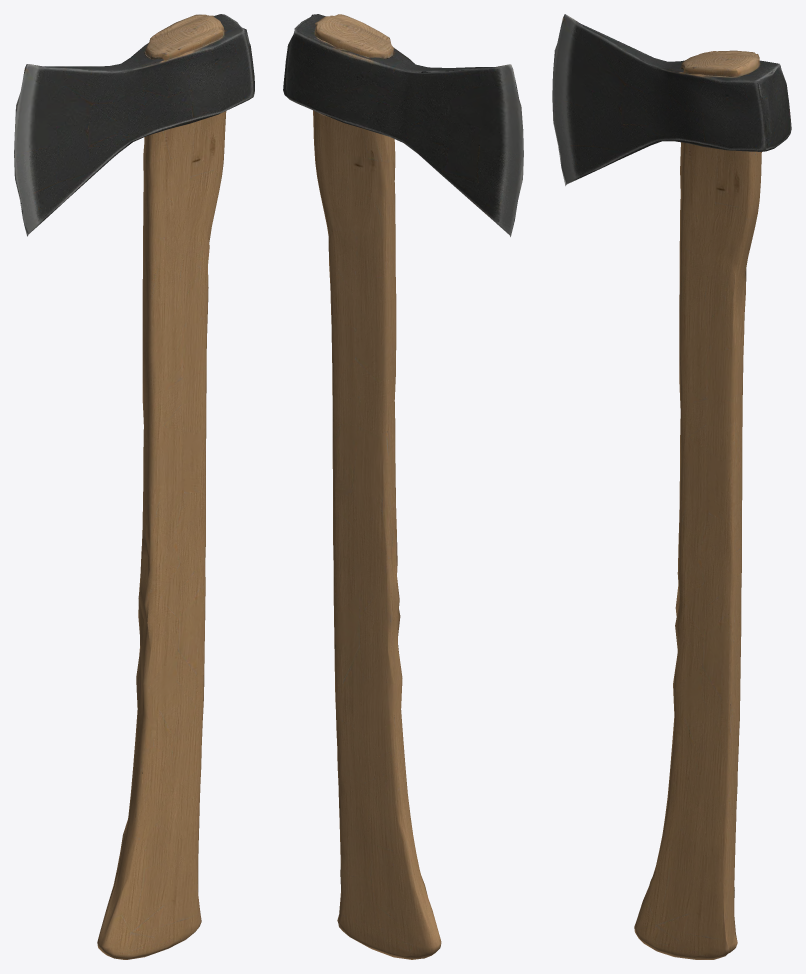
Rendered from axe_sergey.glb.
The picture shows the model from 3 angles, left to right: view 1: azimuth 30°, elevation 25°; view 2: azimuth 150°, elevation 25°; view 3: azimuth 330°, elevation 25°; orthographic projection.
Size of the model in its own units: 0.2515 by 0.9507 by 0.0542.
Materials: 1 (1 with a texture image).
